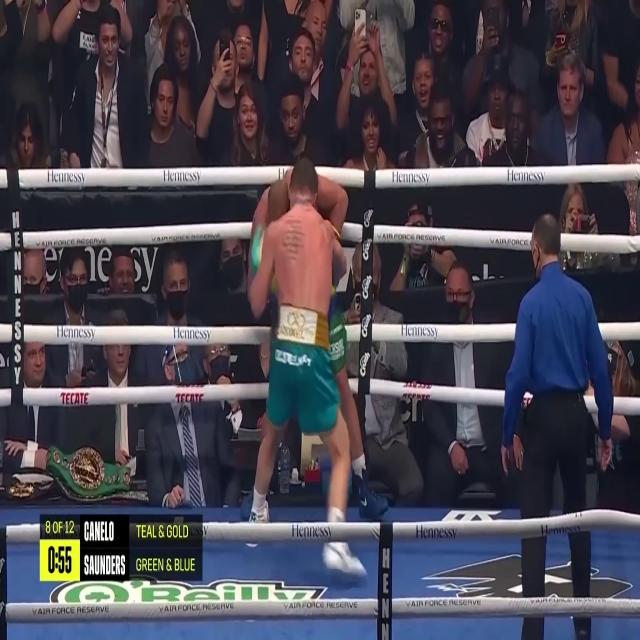boxer_1: (255, 167, 292, 226), (316, 175, 348, 232)
boxer_2: (250, 158, 339, 316)
gloves_2: (250, 222, 266, 273)
